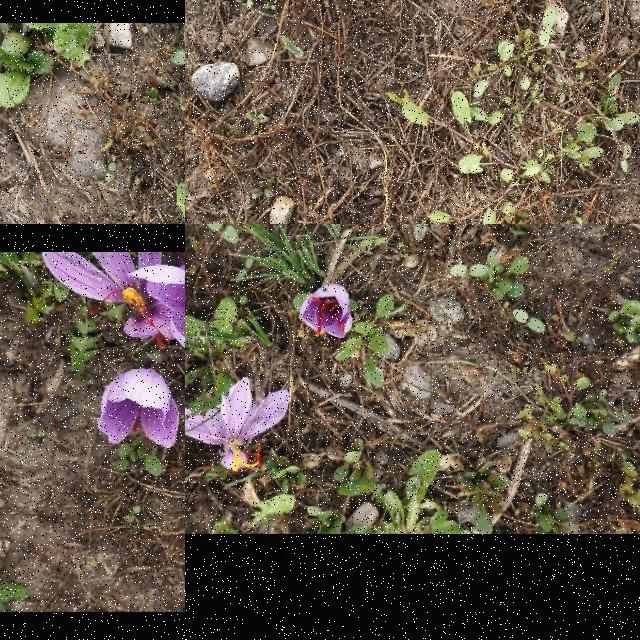flower: (96, 363, 178, 449), (130, 263, 185, 383), (298, 283, 354, 339)
overlap: (42, 252, 185, 350)
